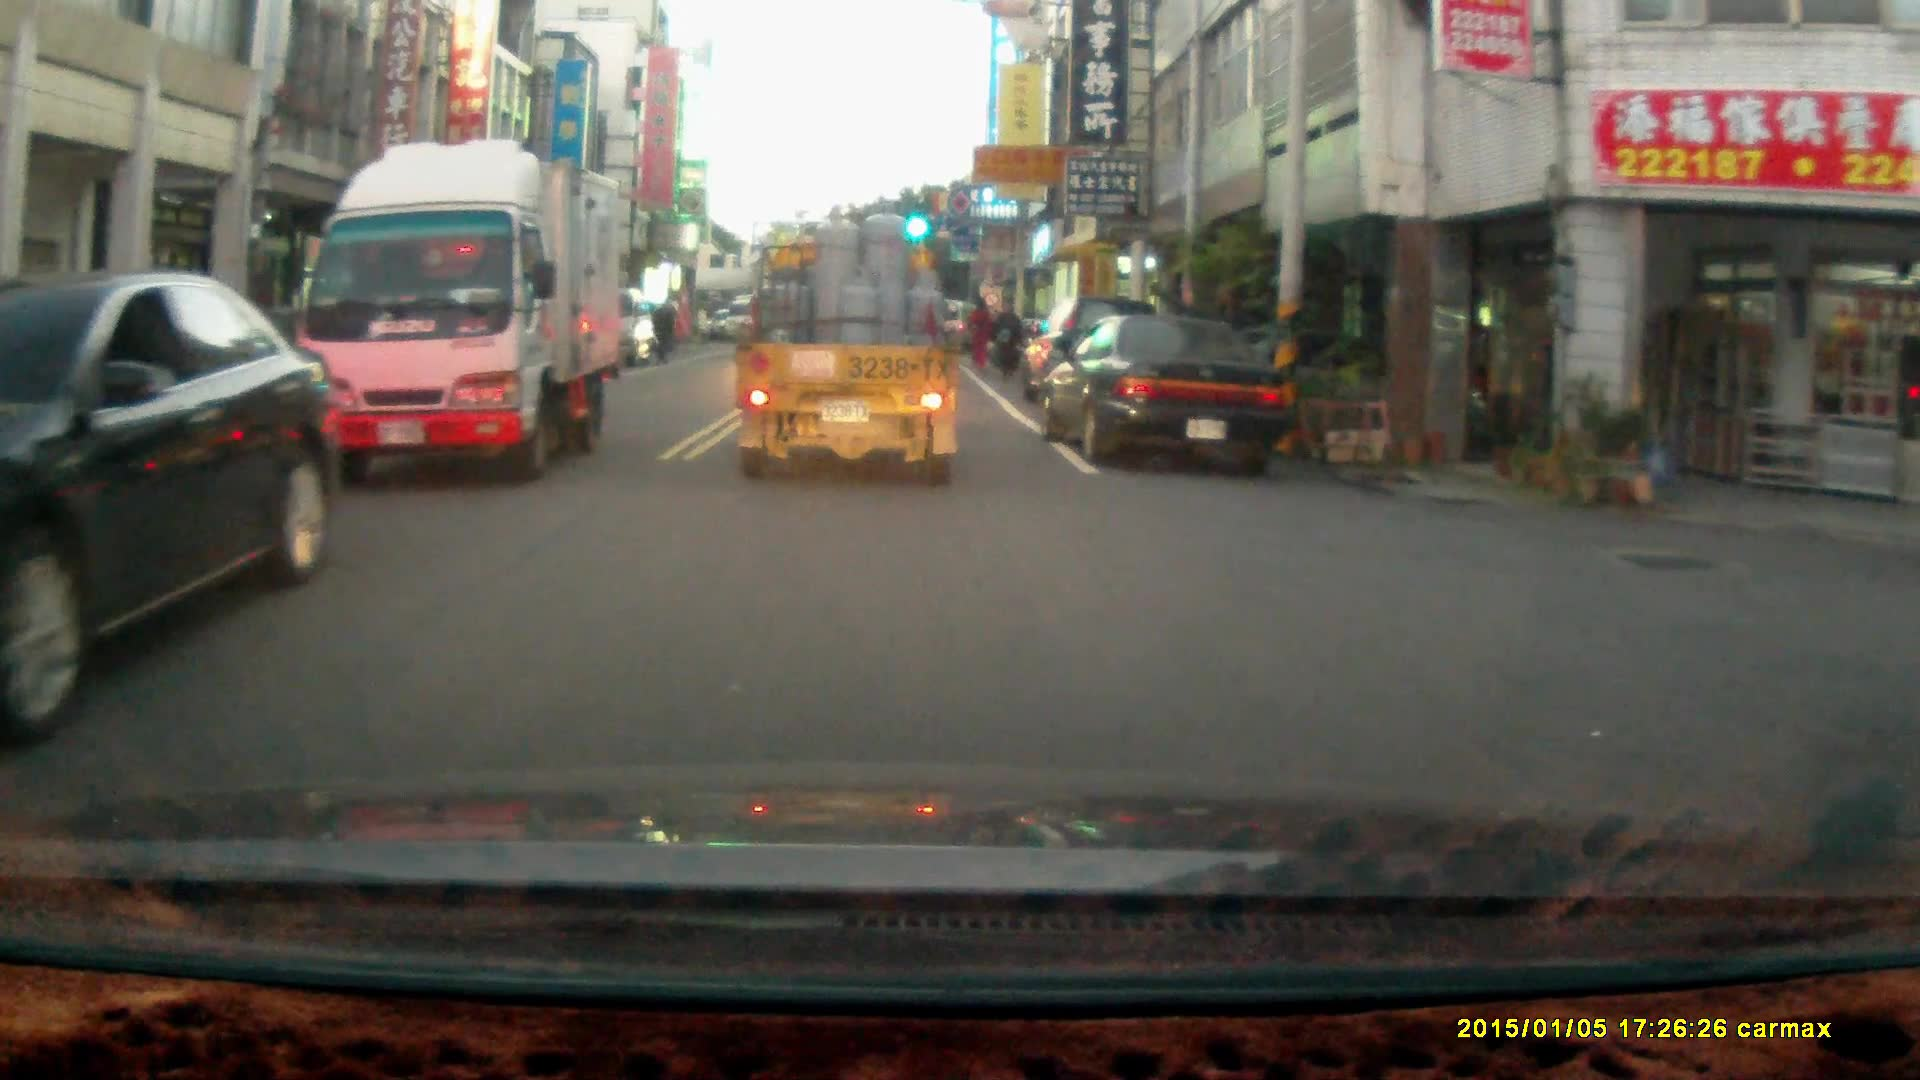pedestrian: (989, 295, 1021, 383), (963, 290, 994, 367), (649, 297, 680, 363)
vehicle: (1, 270, 341, 750), (296, 140, 626, 489), (729, 194, 967, 489), (1045, 309, 1292, 469)
